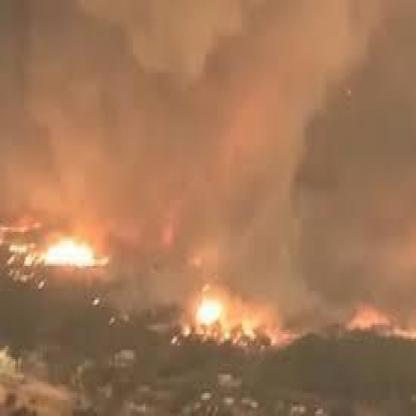fire: (182, 276, 294, 364), (38, 230, 110, 272), (355, 302, 405, 338)
smoke: (10, 8, 382, 223), (237, 235, 336, 300)
